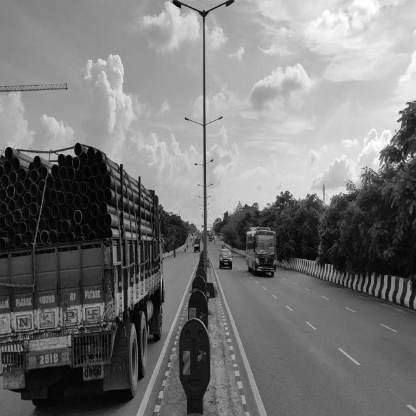bus: (245, 227, 281, 277)
car: (219, 248, 235, 272)
truck: (0, 142, 164, 416)
